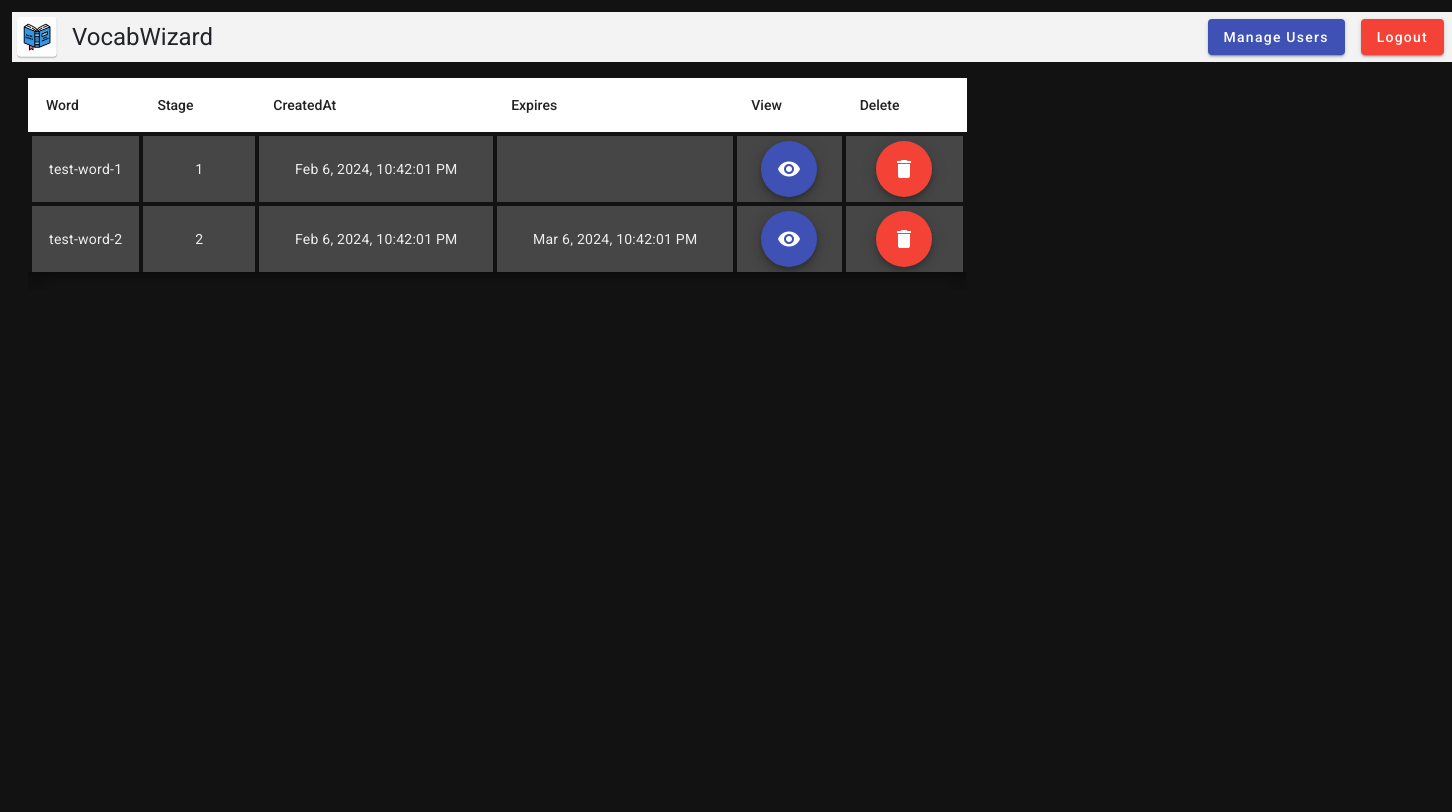
it: Content › should display card after view-button click
Click the 1st button with test id "view-cards-view-button" at {"x": 790, "y": 169}, box [762,141,818,197]
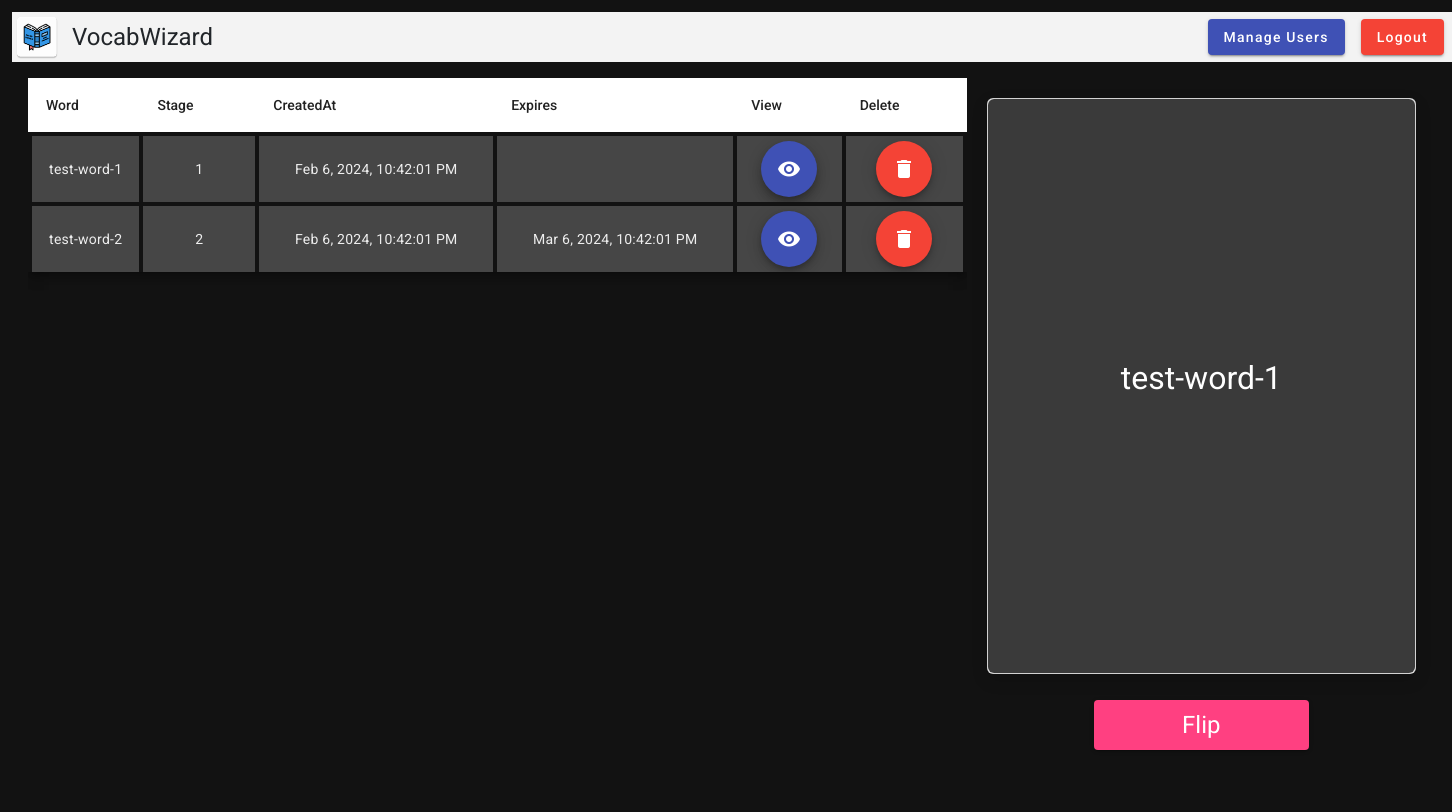
Check: the element with test id "view-cards-card" is shown, box [987,98,1416,674]
